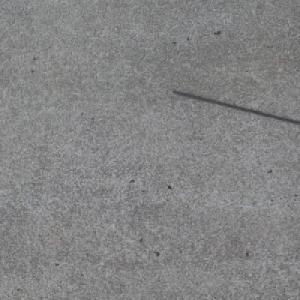LuggagePart: (168, 89, 300, 126)
